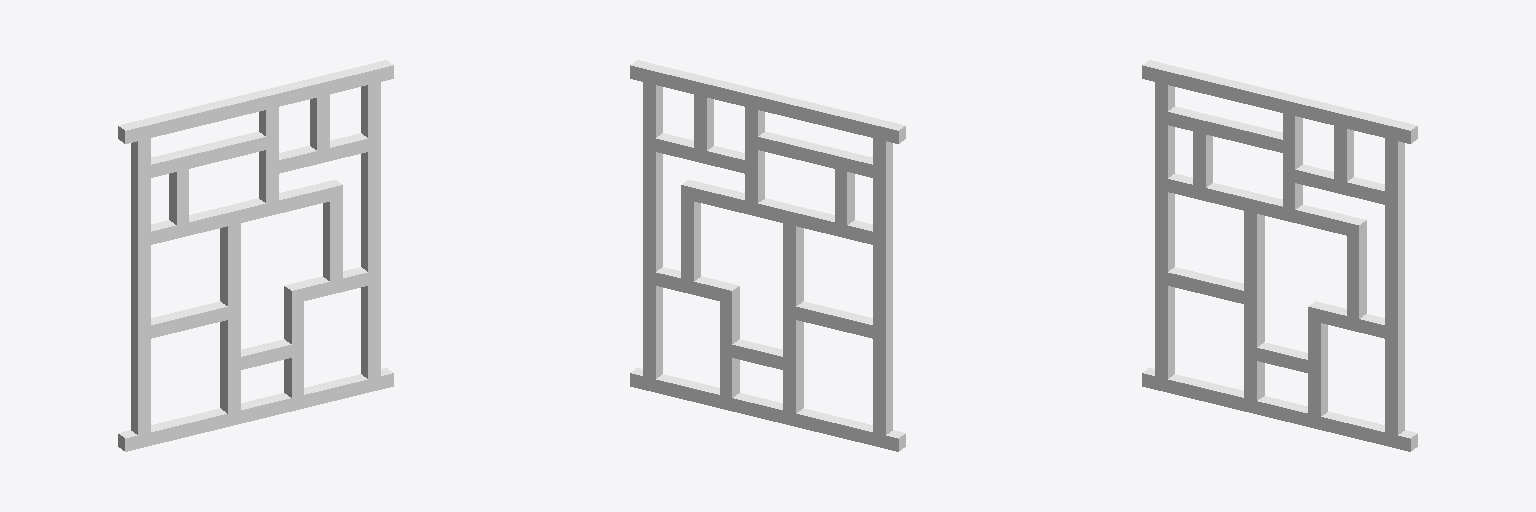
Rendered from IronBar.obj.
3 views of the same model, side by side, from view 1: azimuth 30°, elevation 25°; view 2: azimuth 150°, elevation 25°; view 3: azimuth 330°, elevation 25° (orthographic).
Parts seen in each view (by area): view 1: object 1; view 2: object 1; view 3: object 1.
Part boxes in pixels (x1,y1,x2,y2): object 1: (118, 60, 393, 451); object 1: (630, 60, 905, 451); object 1: (1142, 60, 1417, 451).
Bounding box in the file's own units: 2.1 × 2.4 × 0.1.